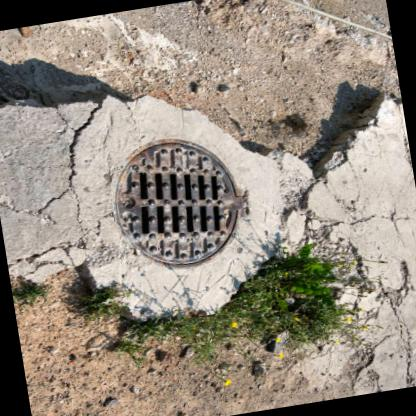manholes: (85, 112, 274, 289)
